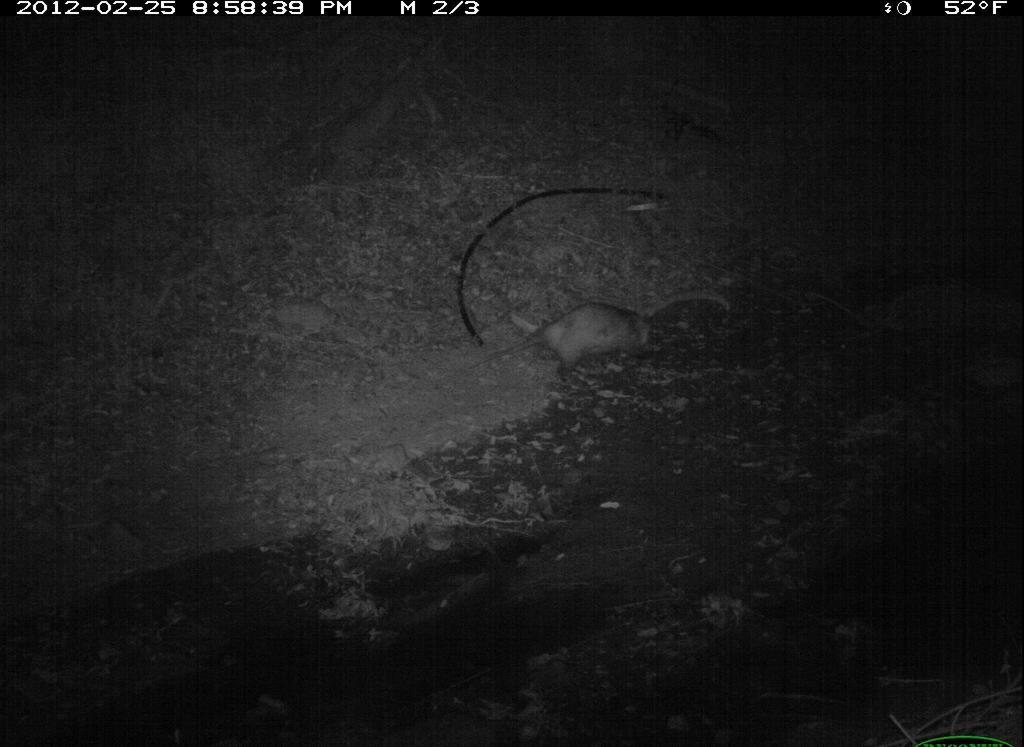opossum: (478, 294, 673, 391)
